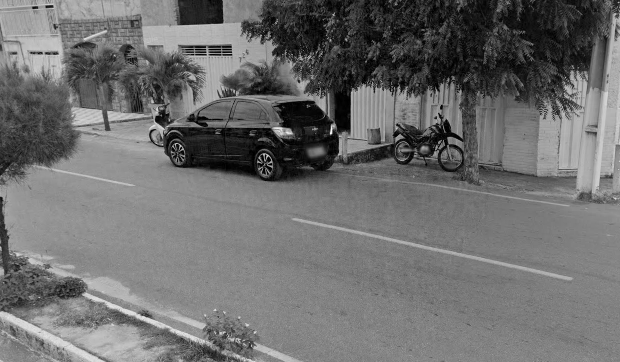car: (158, 91, 342, 190)
